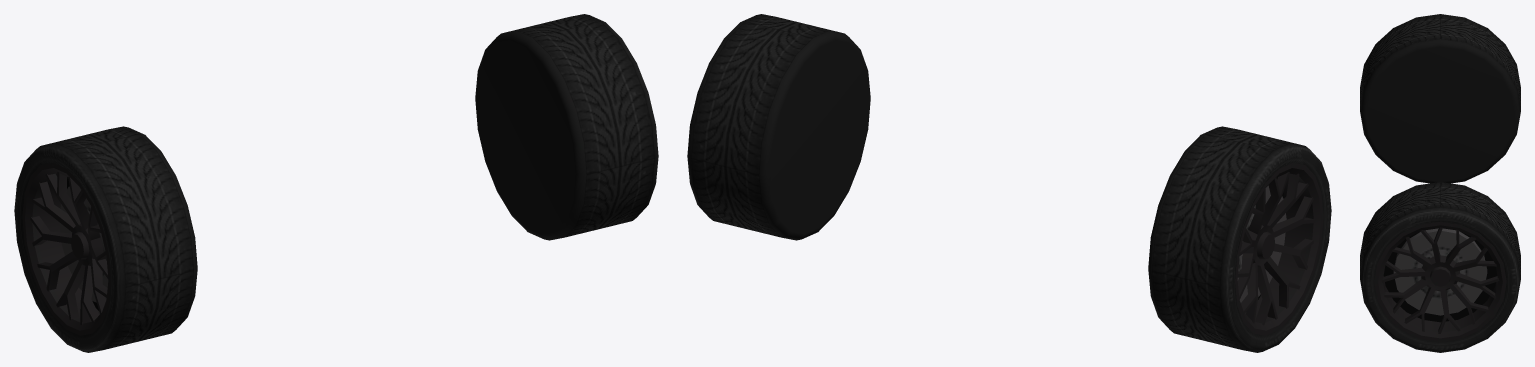
Rendered from Lamborghini_Aventador_front_wheels.obj.
3 views of the same model, side by side, from view 1: azimuth 30°, elevation 25°; view 2: azimuth 150°, elevation 25°; view 3: azimuth 270°, elevation 25° (orthographic). The views are drawn at different scales.
Visible parts, largest first — view 1: Lamborghini_Aventador:Wheel_FL; view 2: Lamborghini_Aventador:Wheel_FL; view 3: Lamborghini_Aventador:Wheel_FL.
Part boxes in pixels (<box>): Lamborghini_Aventador:Wheel_FL: <box>14,14,658,352</box>; Lamborghini_Aventador:Wheel_FL: <box>687,14,1331,352</box>; Lamborghini_Aventador:Wheel_FL: <box>1360,14,1520,352</box>.
Size of the model in its own units: 2.2 by 0.7543 by 0.7543.
